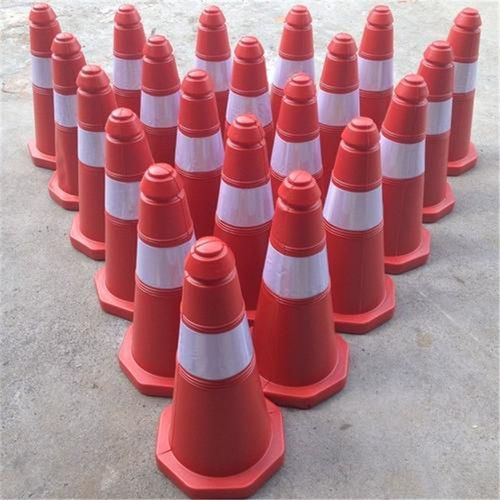traffic_cone: (139, 235, 289, 496), (102, 159, 227, 401), (302, 110, 412, 337), (249, 168, 348, 407), (201, 112, 289, 333), (399, 30, 487, 246), (76, 101, 162, 317), (360, 71, 452, 271), (55, 62, 125, 281), (257, 59, 346, 231), (23, 2, 73, 201)
